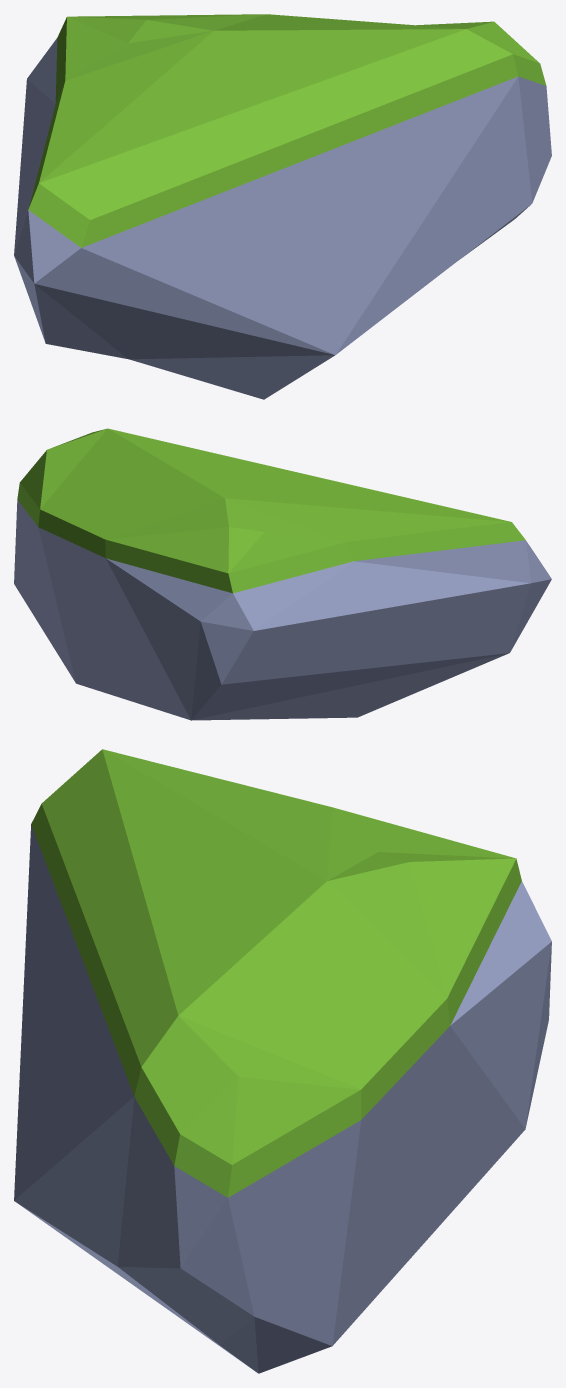
Rendered from Stone_5_1.fbx.
The picture shows the model from 3 angles, top to bottom: view 1: azimuth 30°, elevation 25°; view 2: azimuth 150°, elevation 25°; view 3: azimuth 270°, elevation 25°; orthographic projection. The views are drawn at different scales.
Parts seen in each view (by area): view 1: Stone_5_1; view 2: Stone_5_1; view 3: Stone_5_1.
Part boxes in pixels (bbox=[...]): Stone_5_1: bbox=[14, 14, 551, 399]; Stone_5_1: bbox=[14, 428, 551, 720]; Stone_5_1: bbox=[14, 749, 551, 1373].
Size of the model in its own units: 1.26 by 0.5981 by 0.77.
